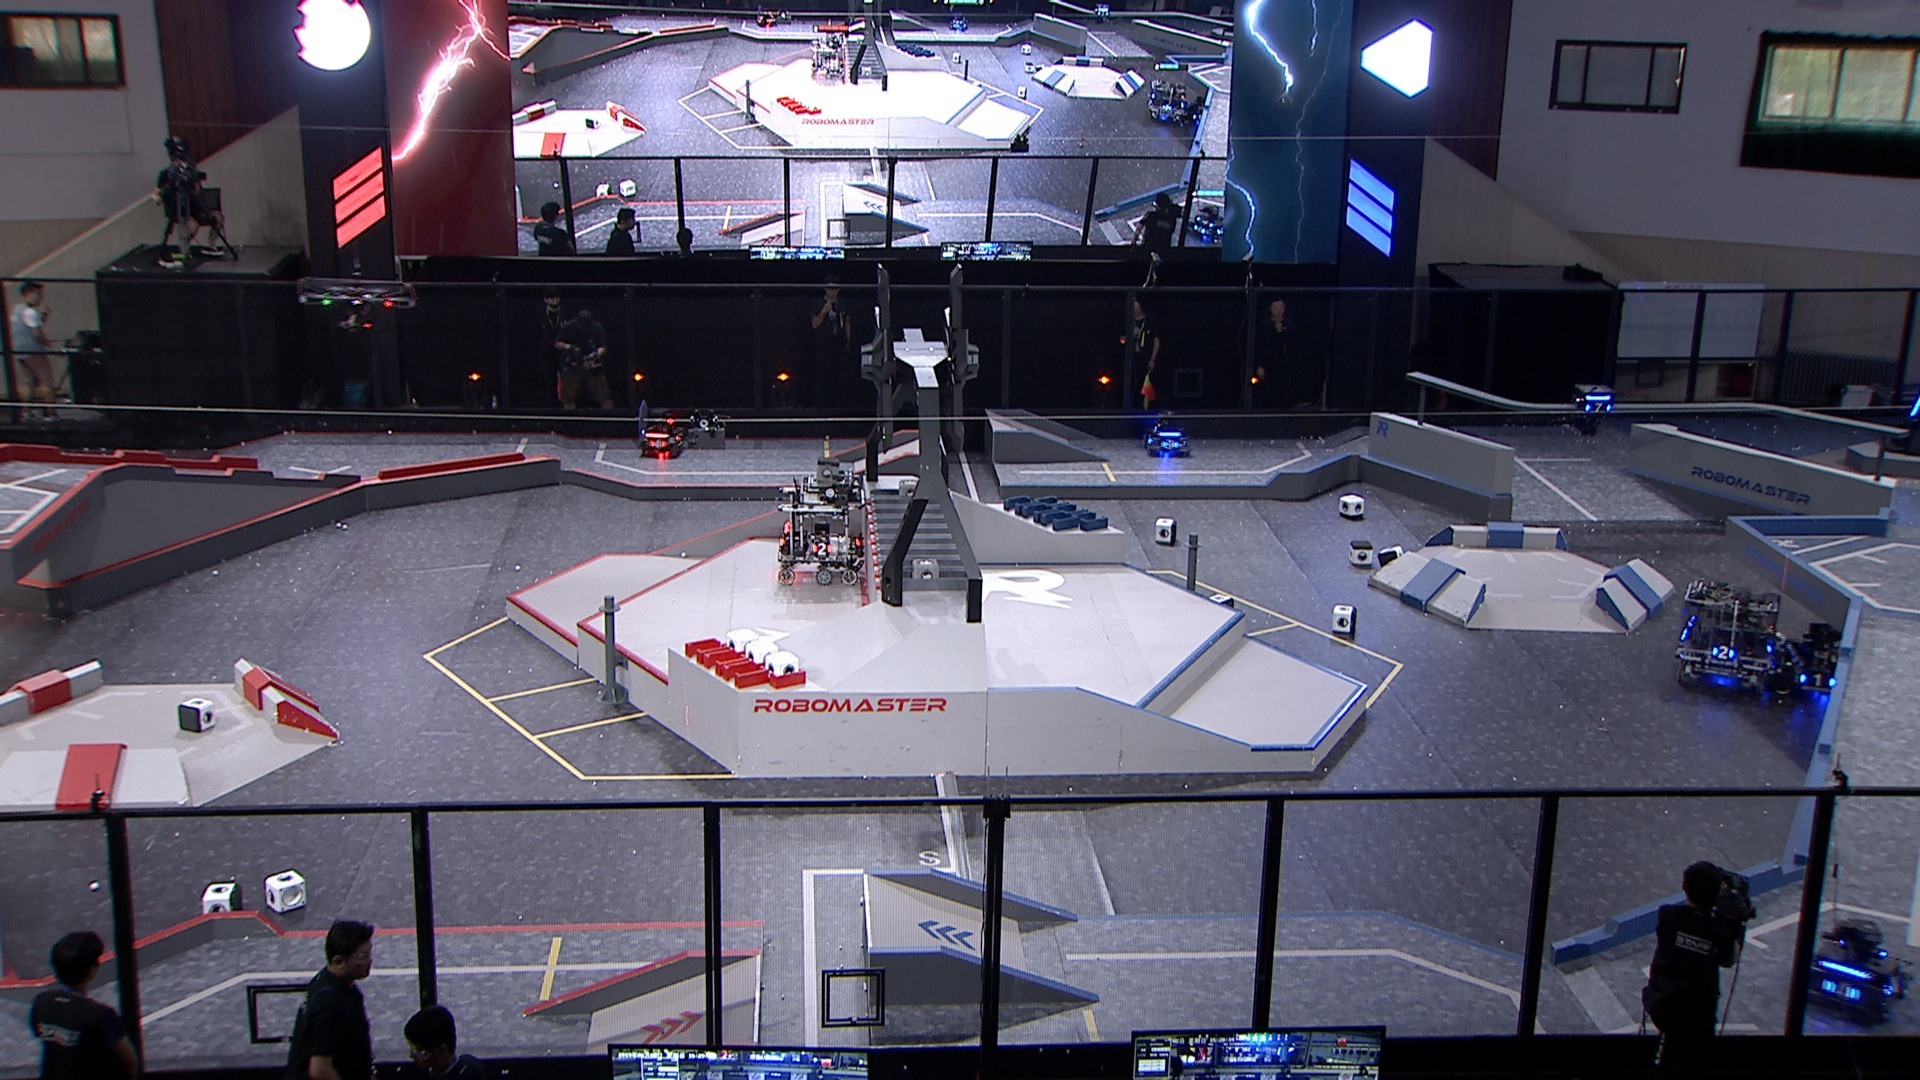armor: (1822, 978, 1865, 1005), (1797, 674, 1841, 690), (1884, 975, 1903, 998), (1581, 401, 1613, 414), (1709, 645, 1735, 661), (812, 541, 837, 556), (1160, 439, 1182, 452), (1911, 396, 1920, 419), (647, 439, 667, 450)
base: (1882, 357, 1920, 458)
car: (1665, 580, 1784, 694), (1793, 915, 1911, 1021), (775, 458, 868, 584), (1764, 618, 1874, 705), (636, 406, 688, 460), (1141, 411, 1193, 460)
ignore: (808, 30, 849, 78), (1183, 204, 1229, 244), (1149, 76, 1187, 121), (1182, 96, 1209, 125)
watcher: (1565, 382, 1619, 440)
